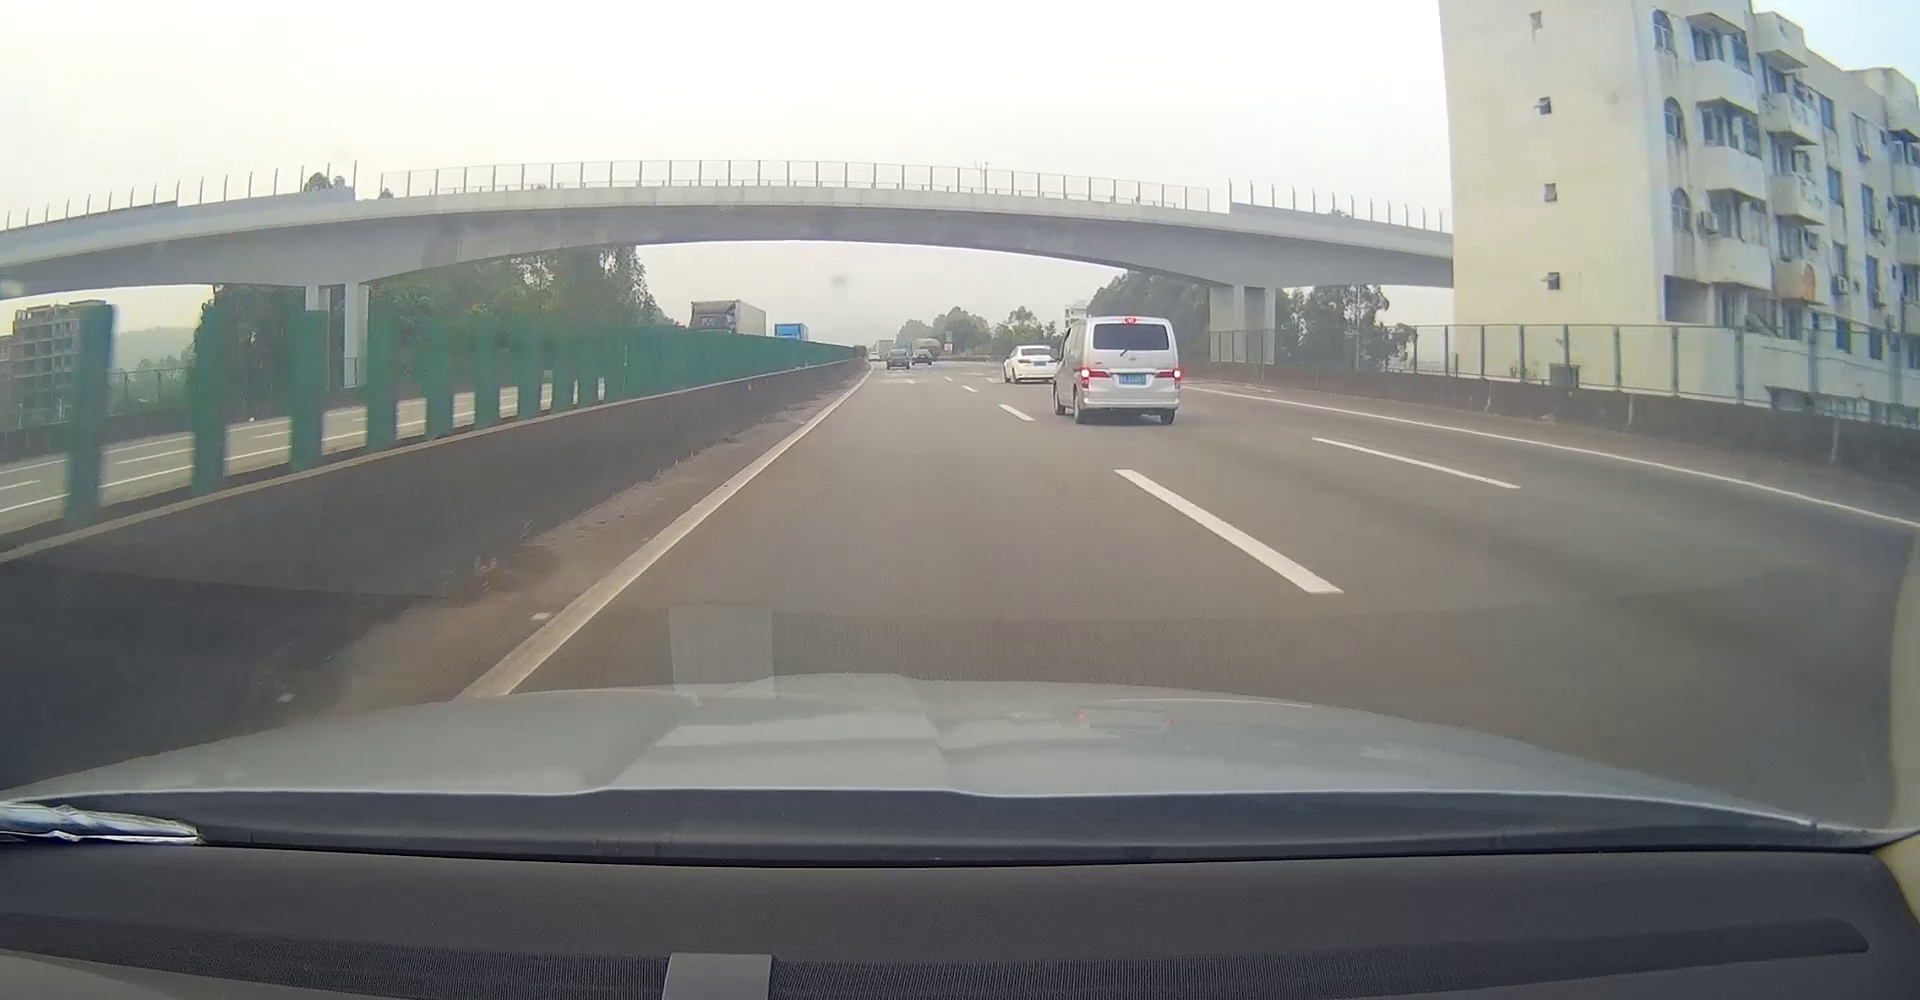L_light: (1079, 367, 1110, 390), (1018, 359, 1031, 364)
R_light: (1154, 368, 1180, 390), (1048, 358, 1059, 364)
T_light: (1124, 319, 1135, 324), (1034, 348, 1043, 350)
day-brake: (1079, 316, 1181, 424)
day-no: (1015, 345, 1060, 385)
